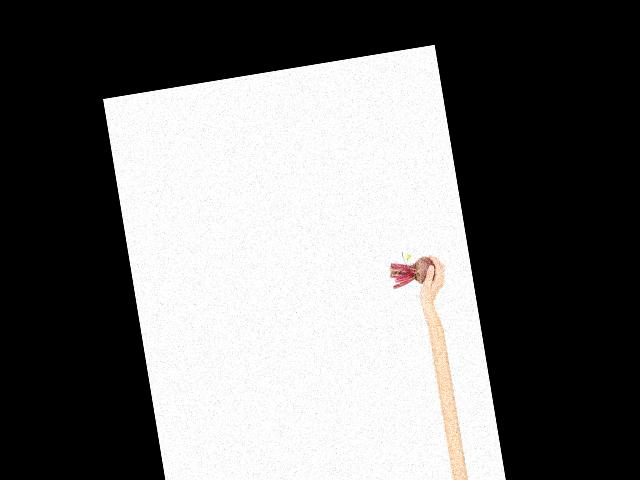beet: (386, 246, 437, 288)
